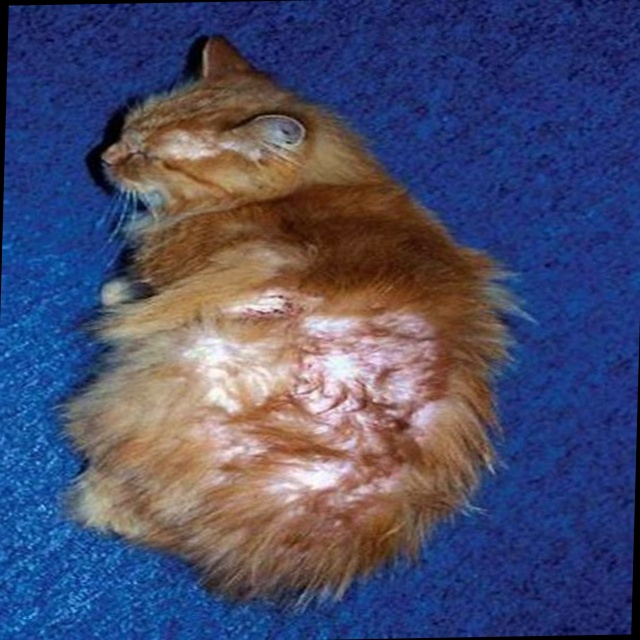hairloss: (197, 322, 438, 493)
